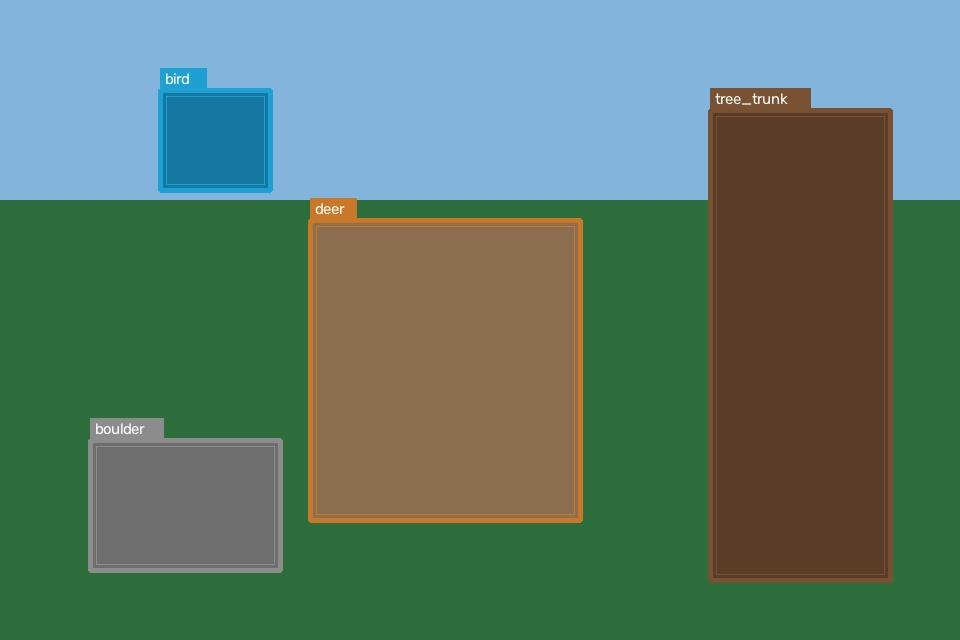bird: (160, 90, 270, 190)
boulder: (90, 440, 280, 570)
deer: (310, 220, 580, 520)
tree_trunk: (710, 110, 890, 580)
